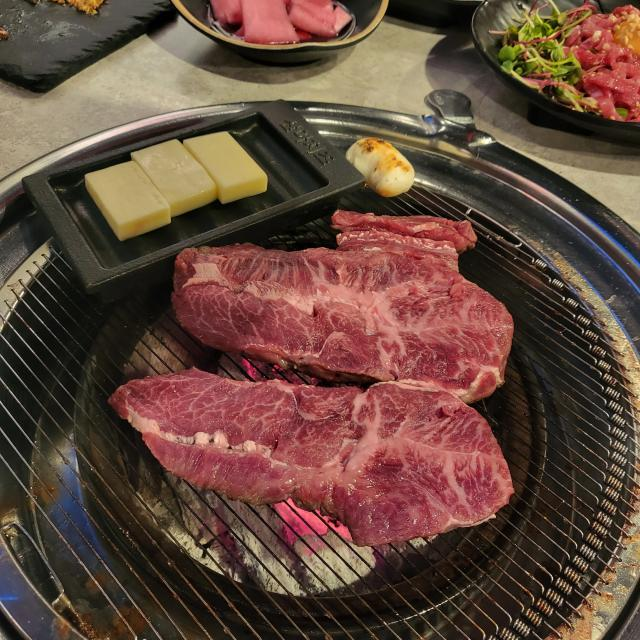beef: (170, 395, 429, 486), (232, 262, 468, 355)
